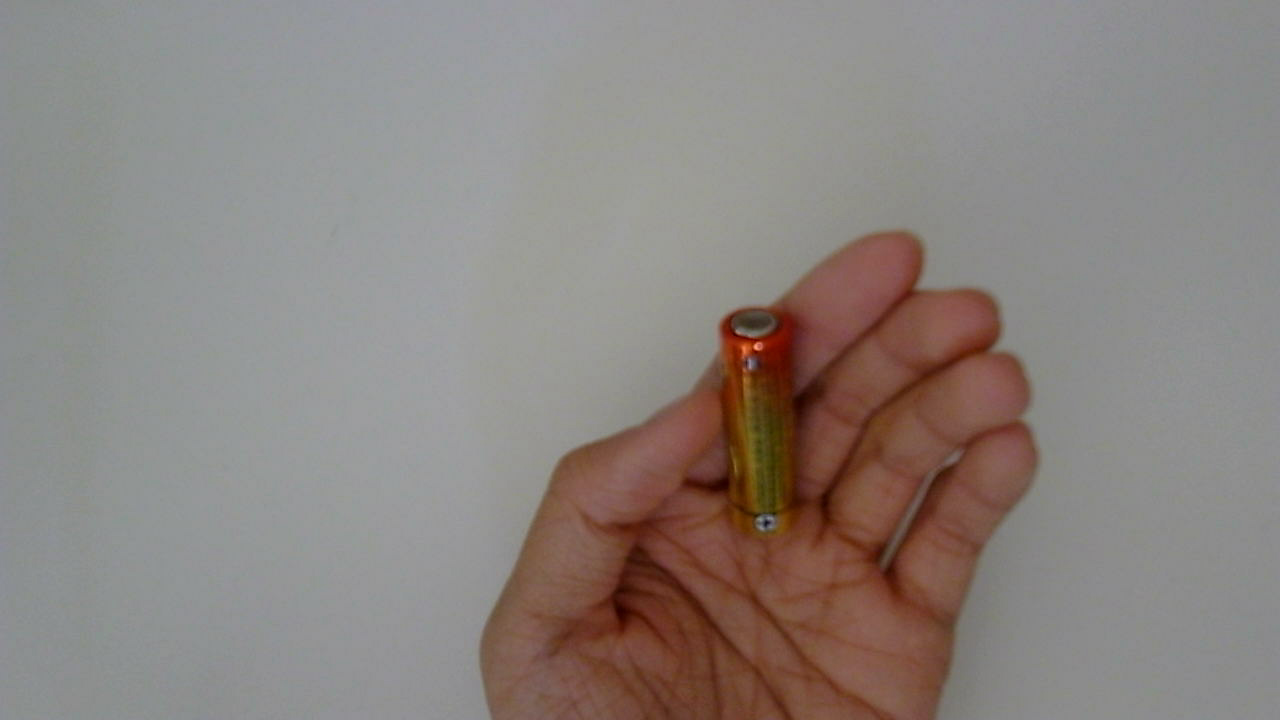Battery: (720, 308, 813, 554)
